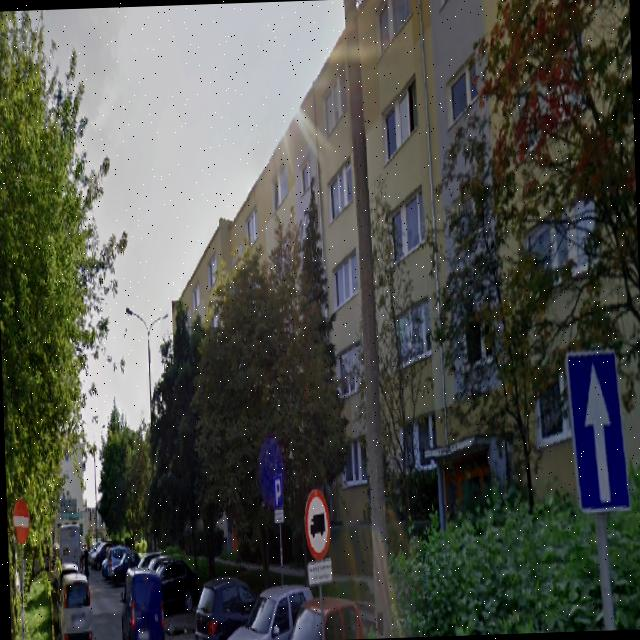Zakaz wjazdu: (10, 496, 30, 547)
